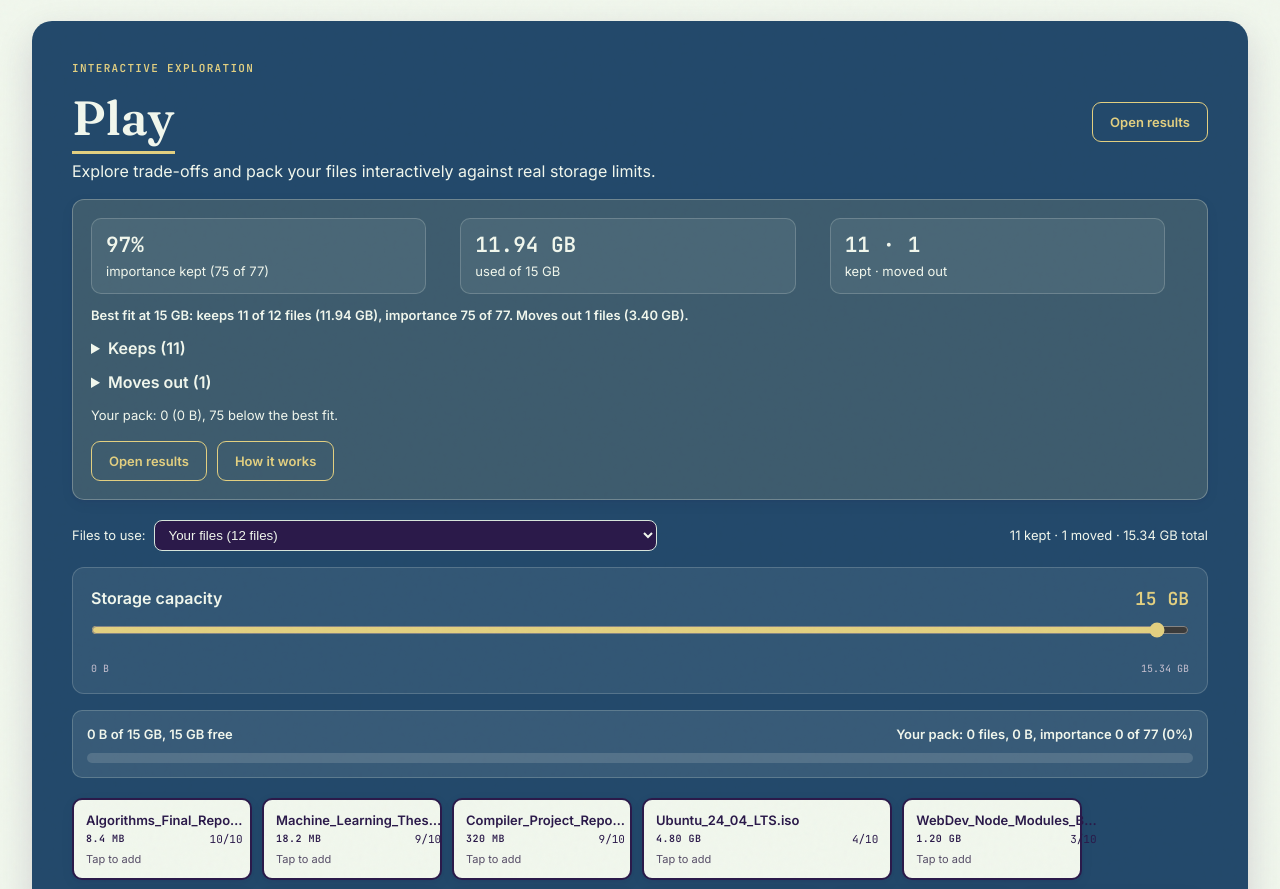
Test: Play screen › reveals the three scores when Show best fit is clicked
The image size is (1280, 889).
# Switch to greedy trap example
Select "Greedy trap example (capacity 10; A 6/30, B 5/24, C 5/24; greedy 30, best 48)" in the dropdown labelled "Files to use" at (405, 536), box [154,520,656,551]
(page scrolled)
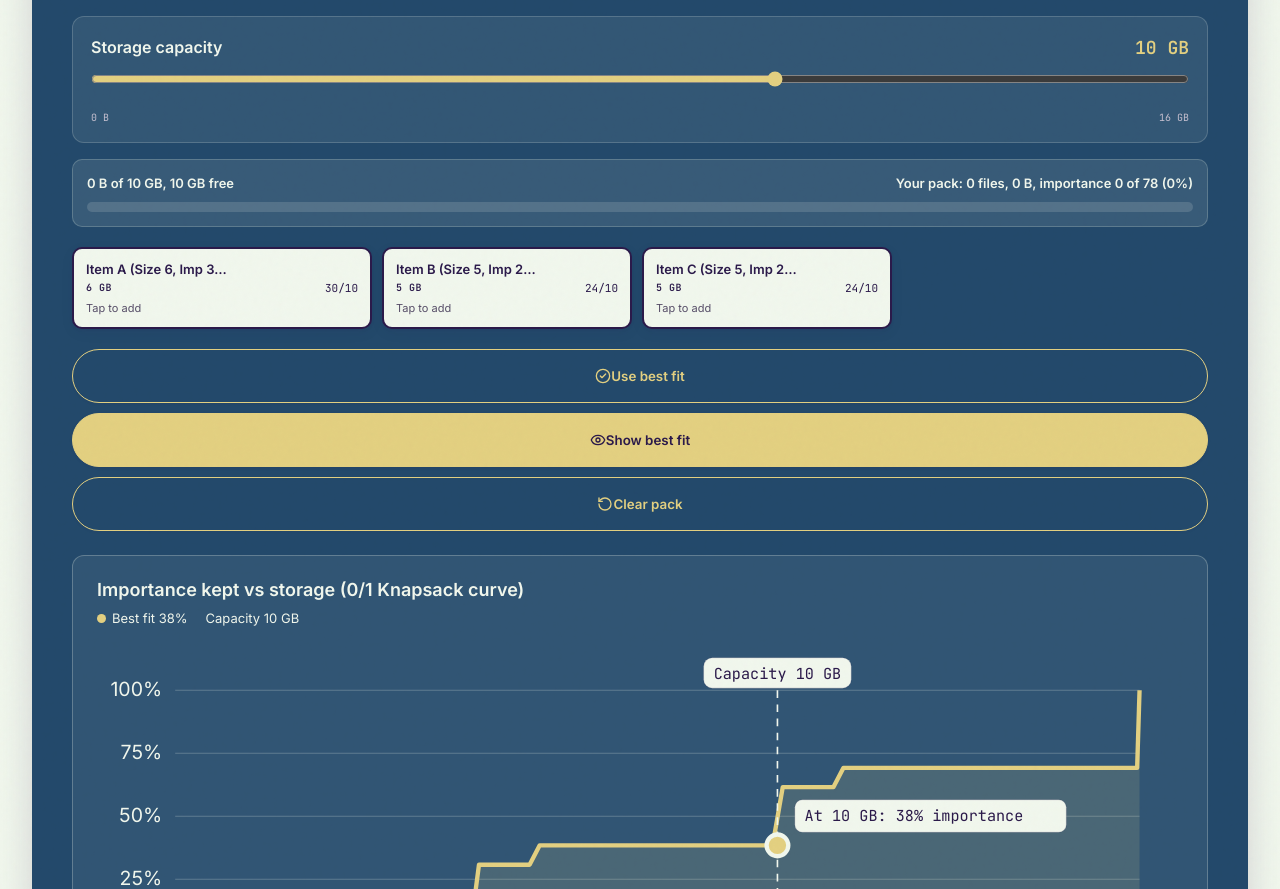
# Click Show best fit
Click the button "Show best fit" at (640, 440), box [72,413,1208,467]
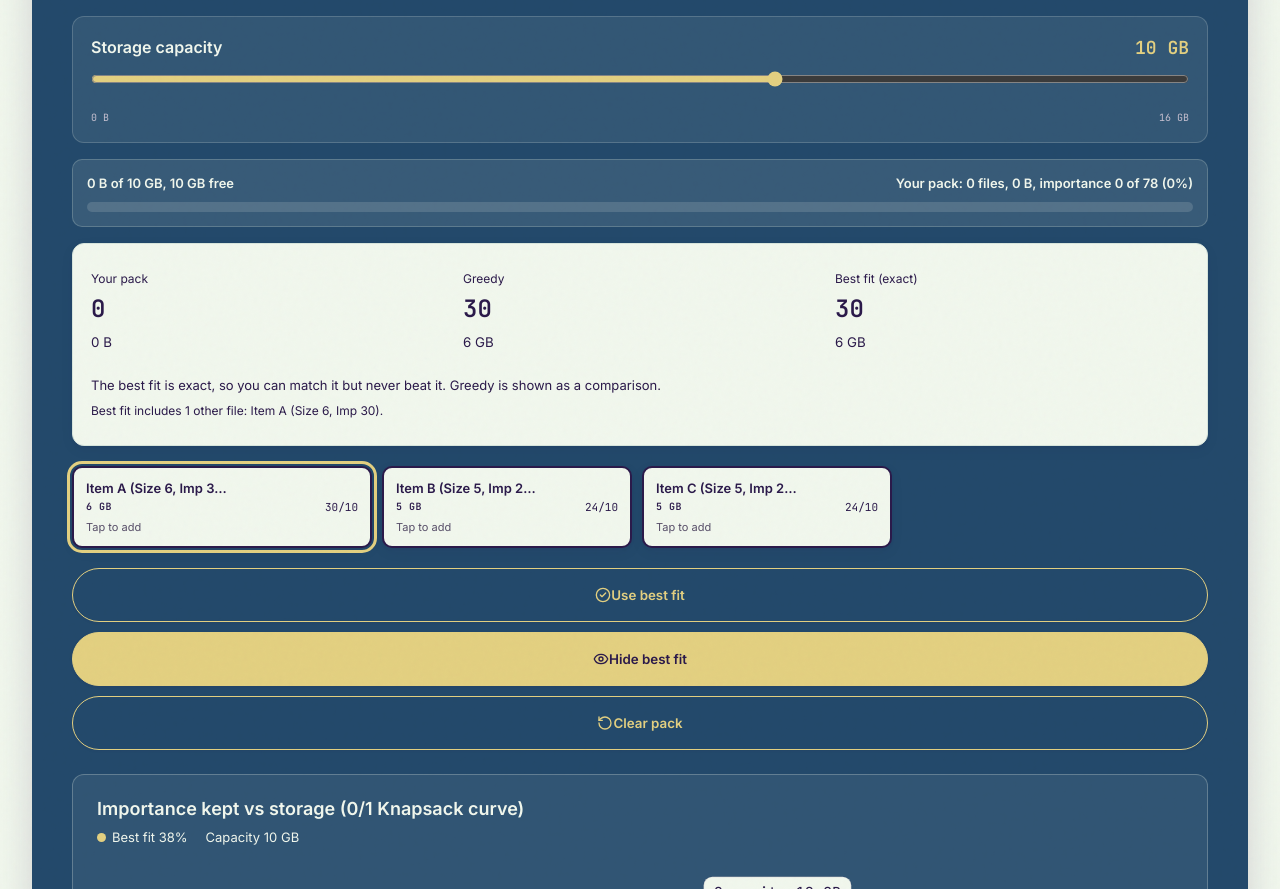
Expected: the element with test id "challenge-results" is shown, [72,243,1208,446]
Expected: the text "0" is shown, [91,293,105,324]
Expected: the text with test id "greedy-score" is shown, [463,293,492,324]
